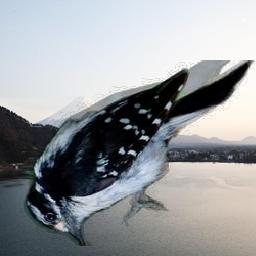Woodpecker: (21, 60, 256, 246)
